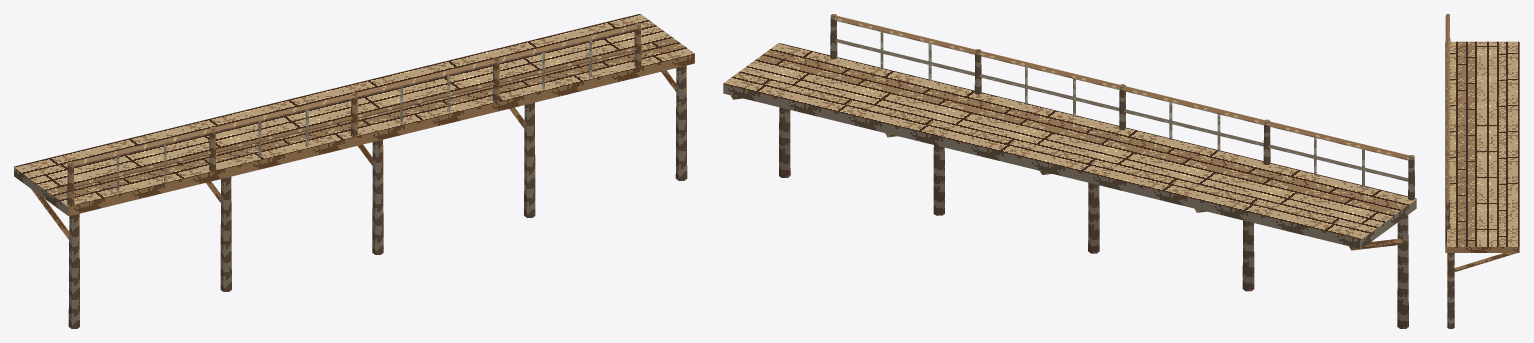
Rendered from wtown.gallery__long.glb.
The picture shows the model from 3 angles, left to right: view 1: azimuth 30°, elevation 25°; view 2: azimuth 150°, elevation 25°; view 3: azimuth 270°, elevation 25°; orthographic projection. The views are drawn at different scales.
Visible parts, largest first — view 1: kit_deck, kit_railing, kit_posts, kit_braces; view 2: kit_deck, kit_railing, kit_posts; view 3: kit_deck, kit_railing, kit_posts, kit_braces.
Boxes of the visible parts, x1=… form: kit_deck: x1=14, y1=14, x2=694, y2=215; kit_railing: x1=67, y1=23, x2=641, y2=205; kit_posts: x1=68, y1=65, x2=687, y2=328; kit_braces: x1=31, y1=70, x2=676, y2=239; kit_deck: x1=723, y1=43, x2=1416, y2=248; kit_railing: x1=830, y1=14, x2=1414, y2=200; kit_posts: x1=779, y1=107, x2=1408, y2=328; kit_deck: x1=1445, y1=41, x2=1519, y2=252; kit_railing: x1=1445, y1=14, x2=1450, y2=229; kit_posts: x1=1447, y1=253, x2=1454, y2=328; kit_braces: x1=1454, y1=253, x2=1516, y2=271.
Size of the model in its own units: 15.72 by 4.01 by 2.4.
Materials: 4 (4 with a texture image).
